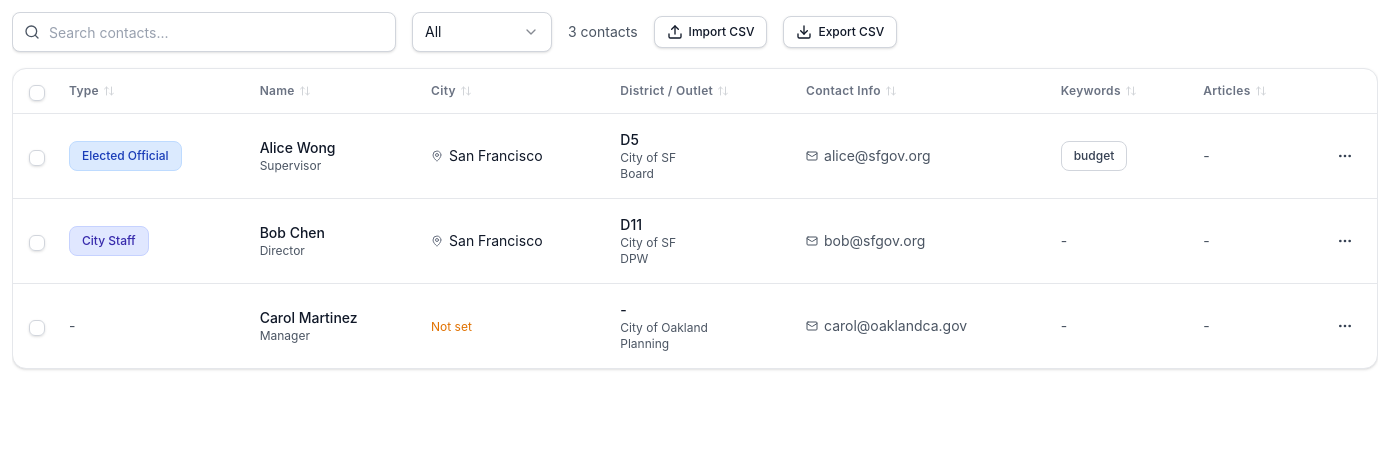
Test case: ContactsTable › selects all contacts with header checkbox
The image size is (1378, 461).
Click the 1st checkbox at (37, 93), box [29, 85, 45, 101]
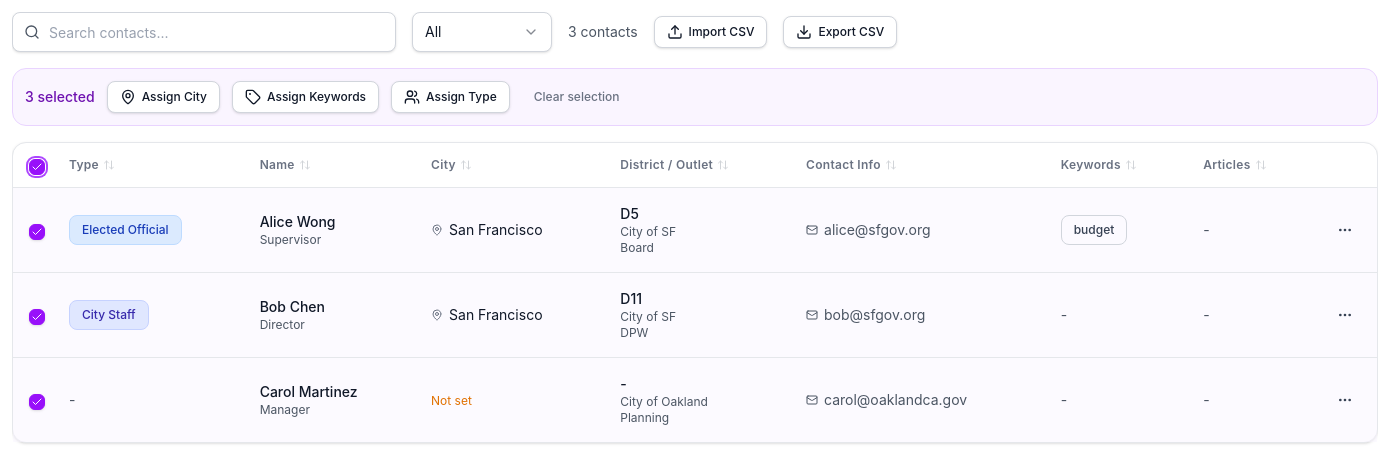
Expected: the text "3 selected" is shown, [25, 87, 95, 107]
